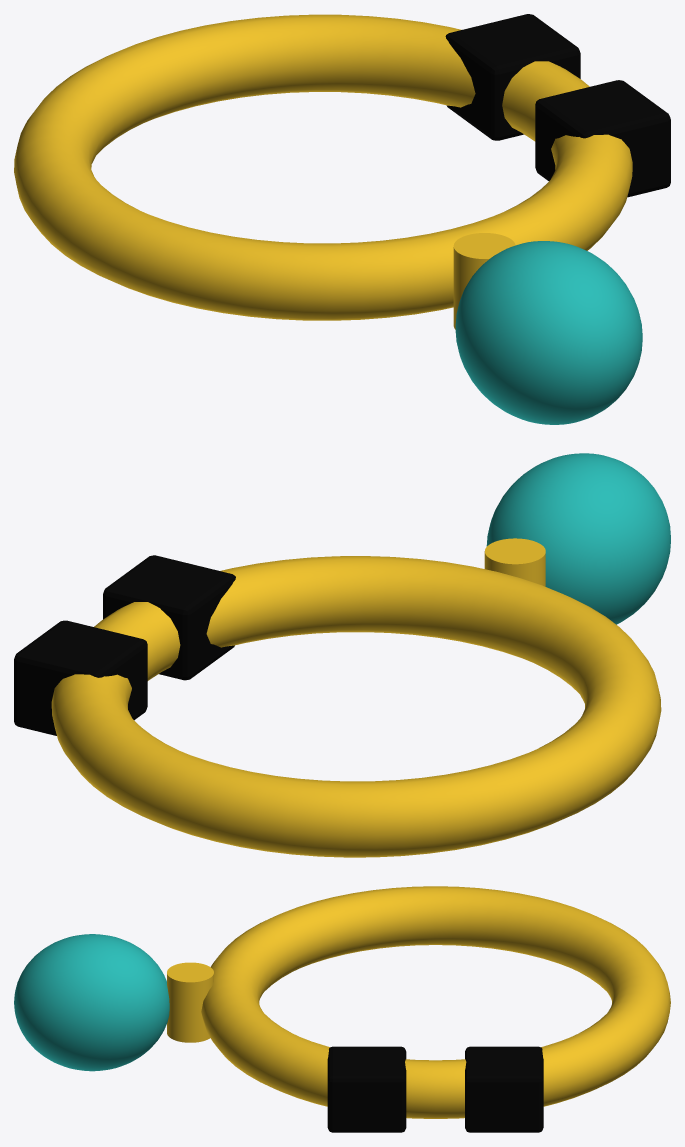
3 views of the same model, one above another, from view 1: azimuth 30°, elevation 25°; view 2: azimuth 150°, elevation 25°; view 3: azimuth 270°, elevation 25° (orthographic). The views are drawn at different scales.
Parts seen in each view (by area): view 1: hoop, bead, gap_fill_right, gap_fill_left, bail; view 2: hoop, bead, gap_fill_left, gap_fill_right, bail; view 3: hoop, bead, gap_fill_right, gap_fill_left, bail.
Part boxes in pixels (x1,y1,x2,y2): hoop: [14, 14, 632, 320]; bead: [455, 241, 642, 424]; gap_fill_right: [535, 80, 670, 197]; gap_fill_left: [445, 14, 580, 140]; bail: [453, 233, 515, 329]; hoop: [51, 556, 661, 857]; bead: [486, 453, 670, 624]; gap_fill_left: [14, 620, 147, 735]; gap_fill_right: [103, 555, 235, 680]; bail: [484, 538, 545, 586]; hoop: [201, 886, 670, 1118]; bead: [14, 934, 169, 1071]; gap_fill_right: [327, 1046, 406, 1132]; gap_fill_left: [465, 1046, 543, 1132]; bail: [167, 962, 213, 1042].
Size of the model in its own units: 0.0245 by 0.007 by 0.0335.
